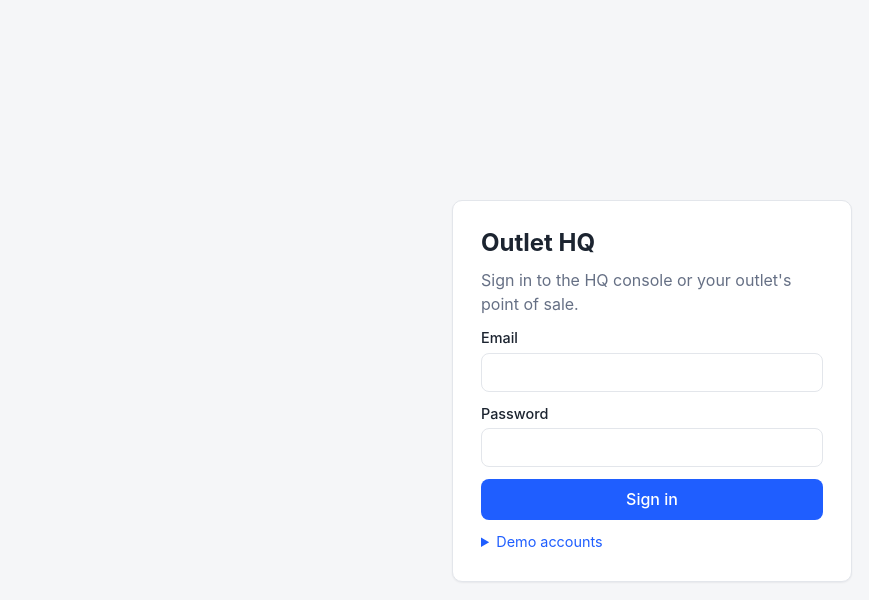
Scenario: LoginPage › signs in with what was typed and goes home
The image size is (869, 600).
In the field labelled "Email": (652, 372) top-left (481, 353), bottom-right (823, 392), type "hq@example.com"
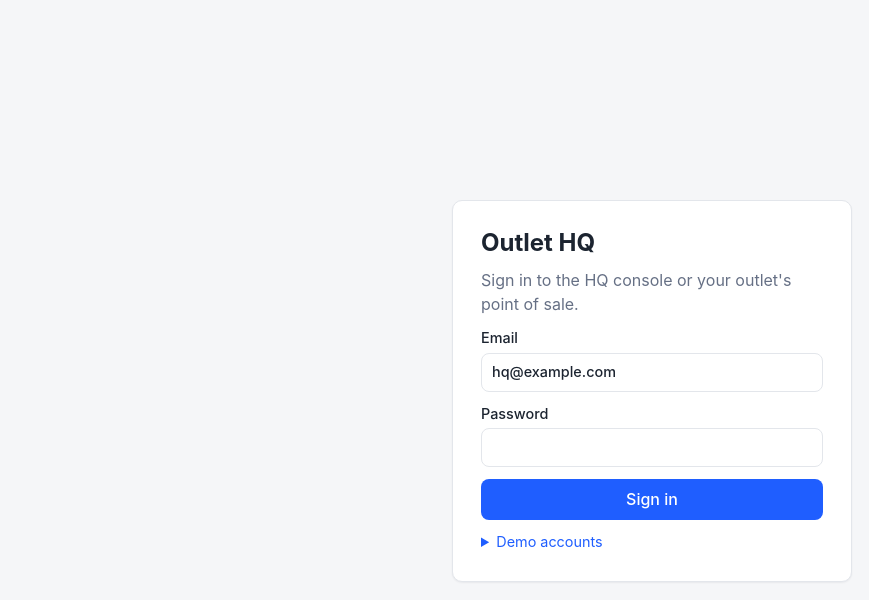
In the password field labelled "Password": (652, 448) top-left (481, 428), bottom-right (823, 467), type "Password123!"
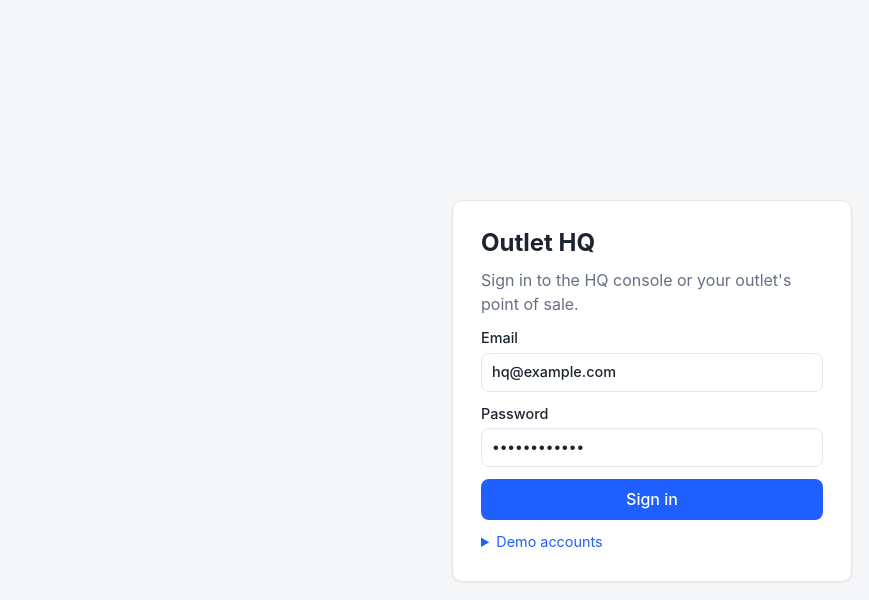
Click the button "Sign in": (652, 500) top-left (481, 479), bottom-right (823, 520)
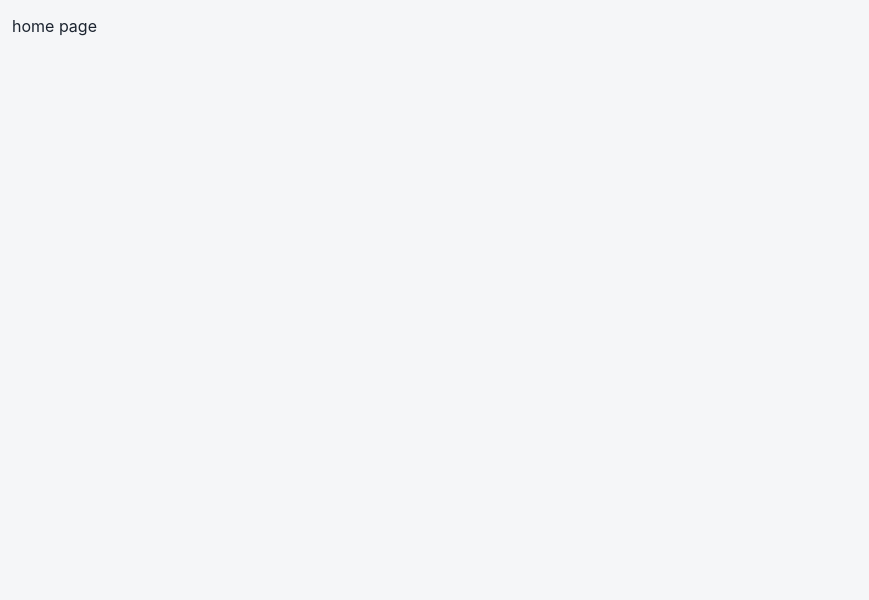
Check: the text "home page" is shown, box top-left (12, 16), bottom-right (97, 36)
